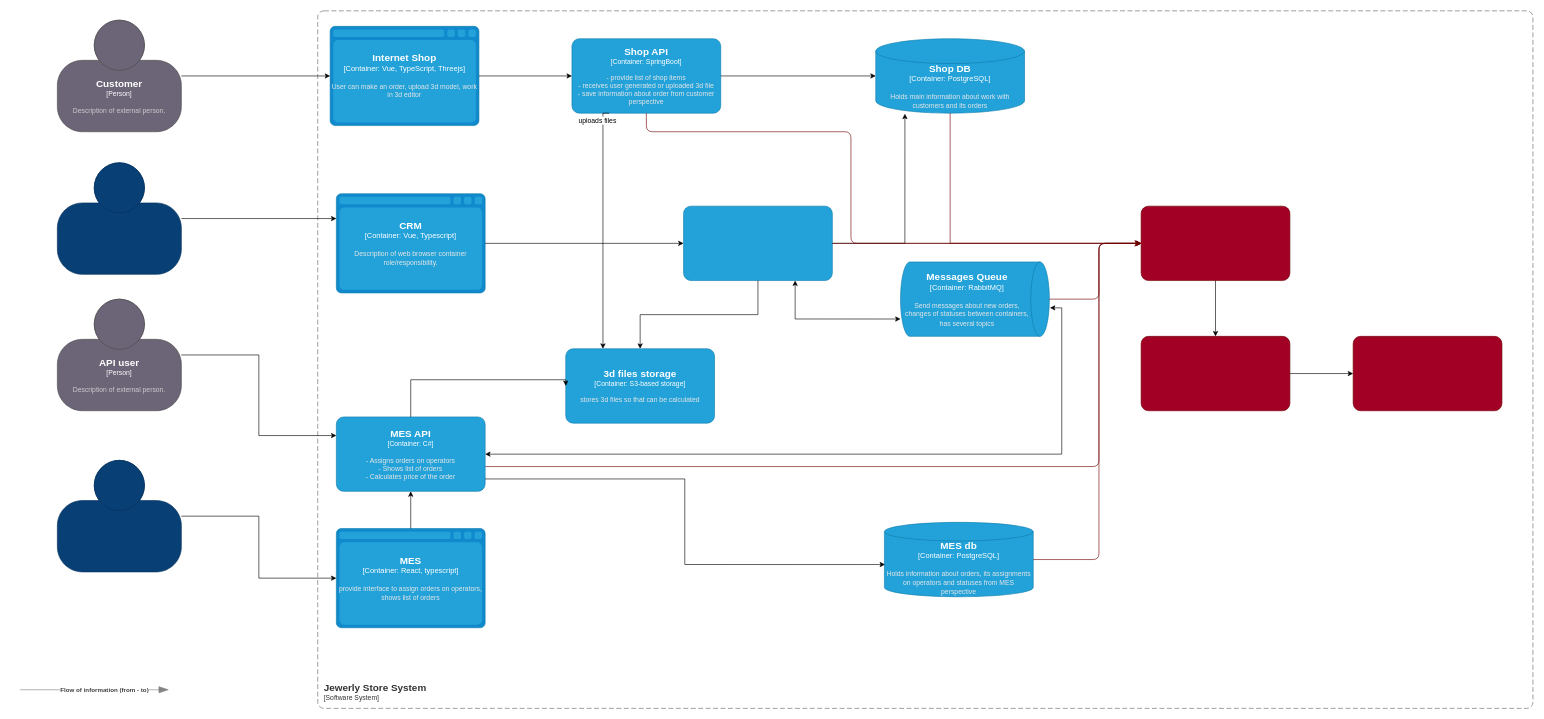
Image size: 1544x719. Some labels were removed from this diagram. The box of each missing label's shape, as (x1, y1, x2, y2) in pixels:
CRM API [Container: SpringBoot] Description of container role/responsibility.: (683, 206, 832, 281)
ElasticSearch [Container: ElasticSearch] Хранение и поиск: (1140, 336, 1290, 411)
Kibana [Container: Kibana] Визуализация и анализ: (1353, 336, 1502, 411)
Logstash [Container: Logstash] Обработка и обогащение логов: (1140, 206, 1290, 281)
Operator [Person] Takes order in work, manufactures jewerly: (57, 460, 181, 572)
Seller [Person] Operates with order, confirms manufacturing for the user: (57, 162, 181, 274)
